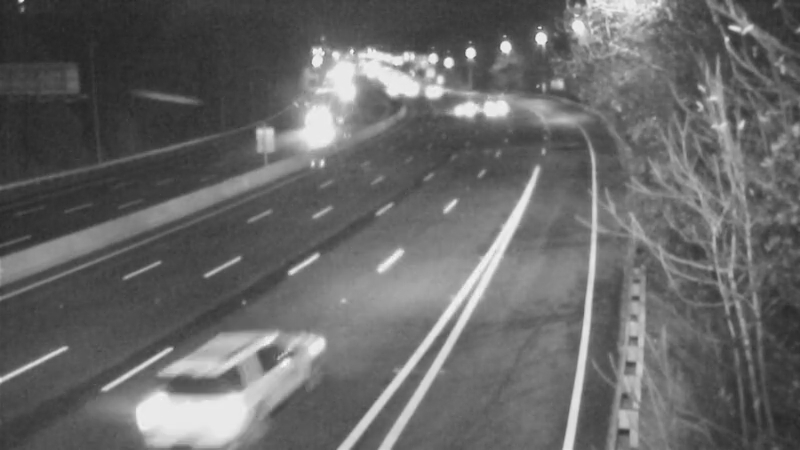vehicle: (142, 351, 252, 450), (408, 70, 458, 120), (469, 83, 519, 133), (440, 85, 490, 135), (286, 104, 336, 154)
